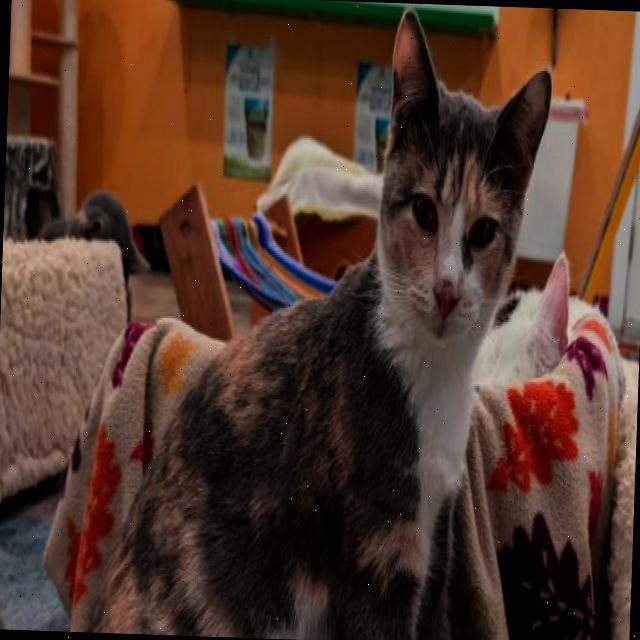calico_cat: (322, 5, 576, 443)
